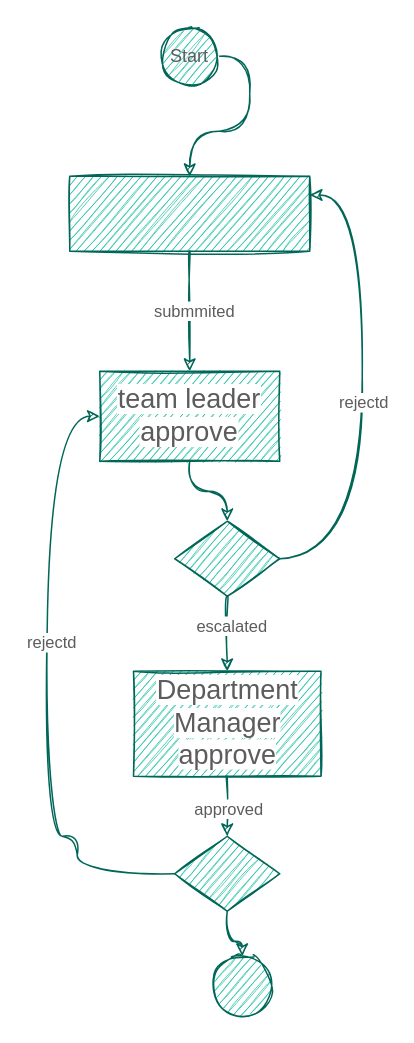
Image size: 414x1043. Some labels were removed from this diagram. Here are the shapes that lost their labels. From the top down, the centre of each, then its label:
point (189, 213): employee send leave reqest
point (241, 985): End
